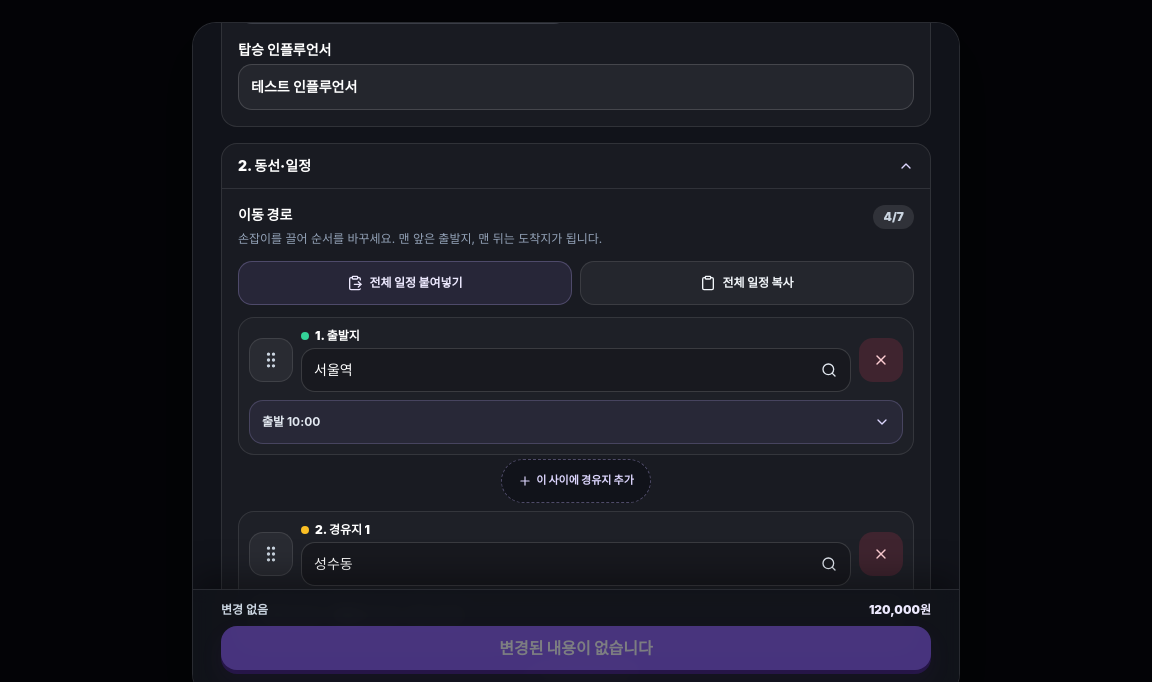
Scenario: MoodBookingChangeModal 경로 순서 편집 › 출발지나 도착지를 삭제했다 되돌려도 임시 끝점이 된 장소의 도착·재출발 시각을 완전히 복원한다
The width and height of the screenshot is (1152, 682).
(page scrolled)
Step 1. Click the button named "1번 출발지 삭제" → click(881, 360), box [859, 338, 903, 382]
(page scrolled)
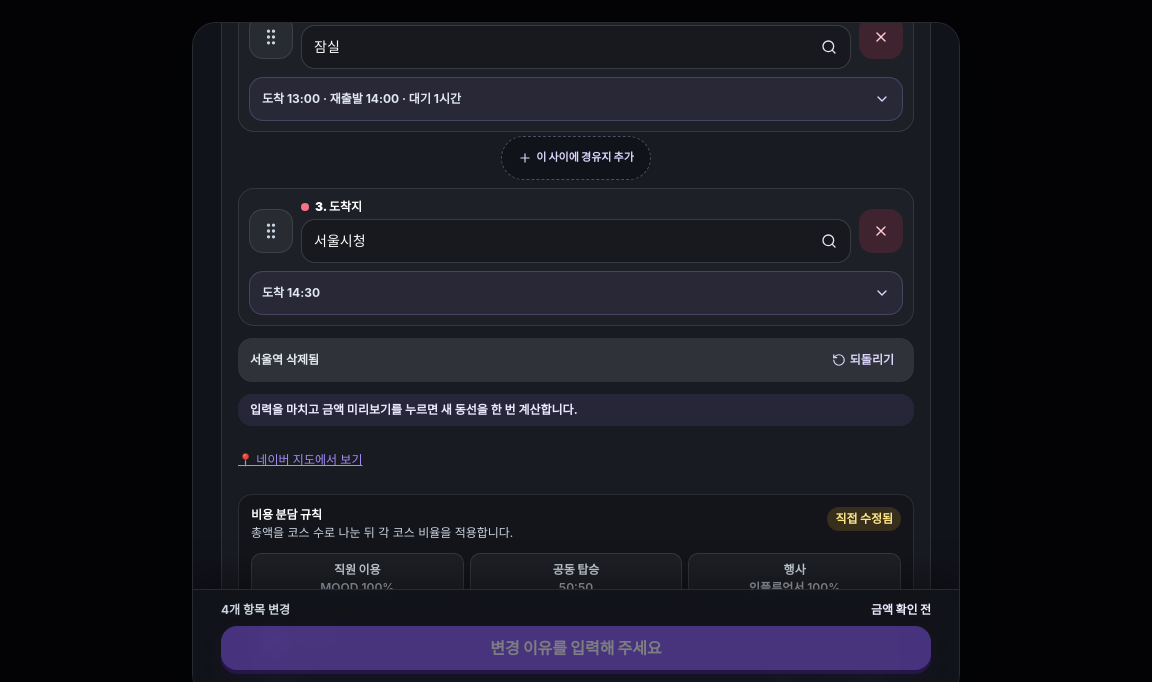
Step 2. Click the button "되돌리기" → click(863, 360), box [824, 338, 902, 382]
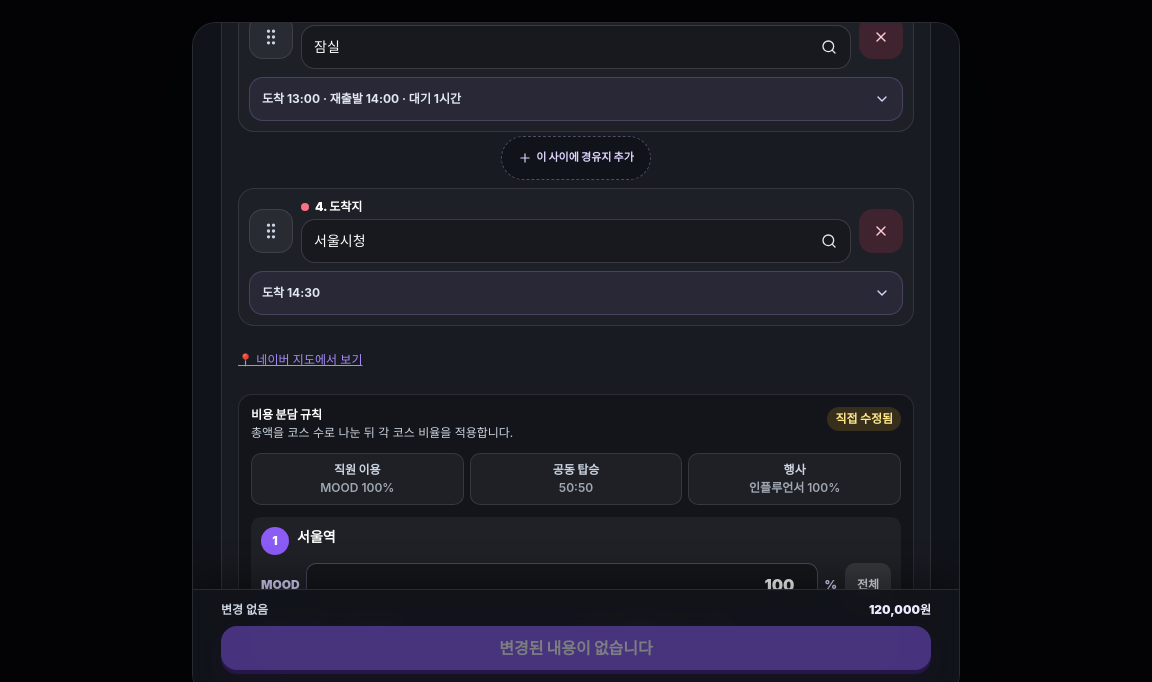
Step 3. Click the button named "4번 도착지 삭제" → click(881, 231), box [859, 209, 903, 253]
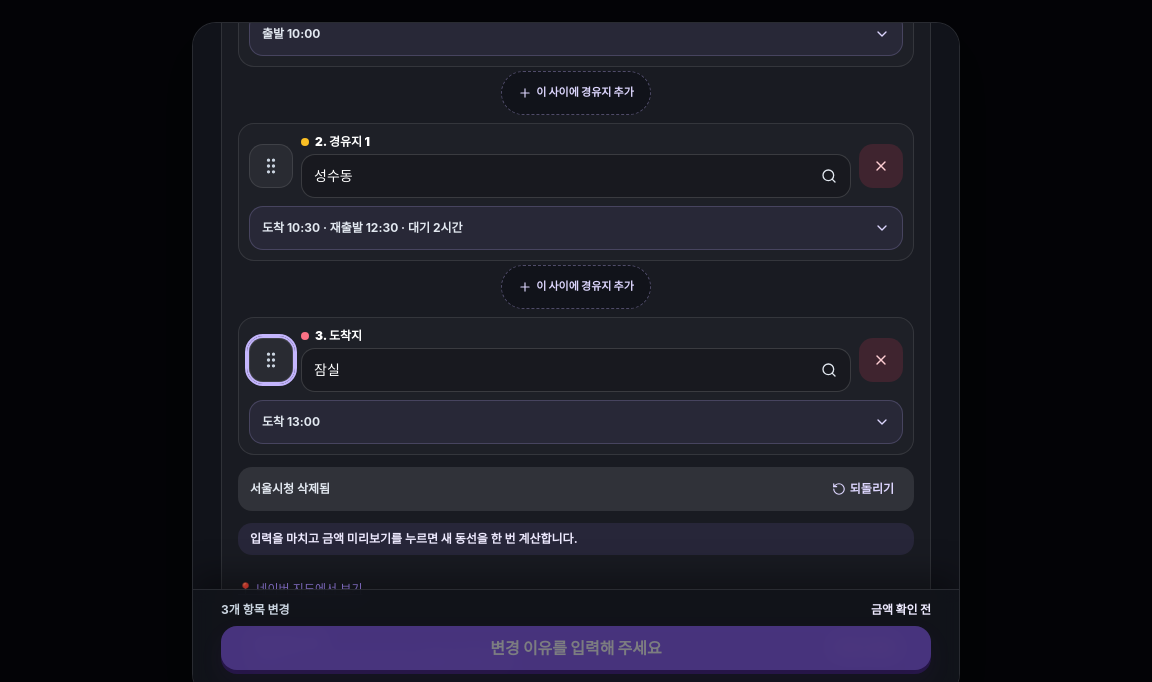
Step 4. Click the button "되돌리기" → click(863, 489), box [824, 467, 902, 511]
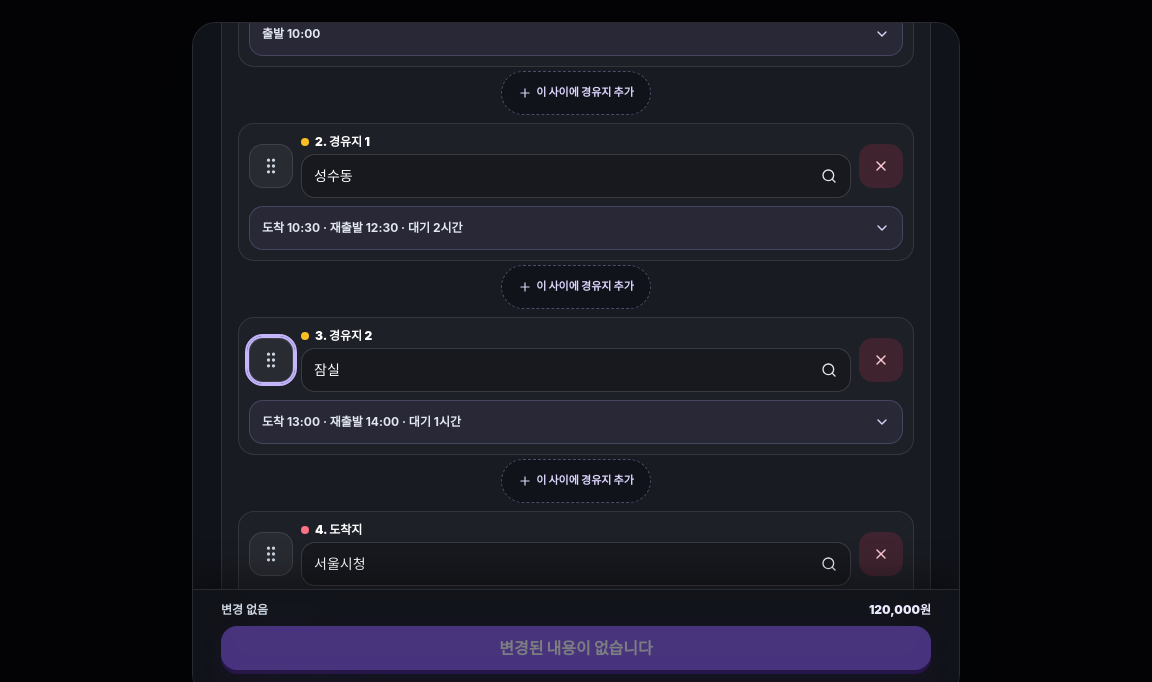
Result: the text "도착 13:00 · 재출발 14:00 · 대기 1시간" is shown at [262, 414, 461, 429]
